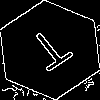T: (25, 25, 81, 80)
